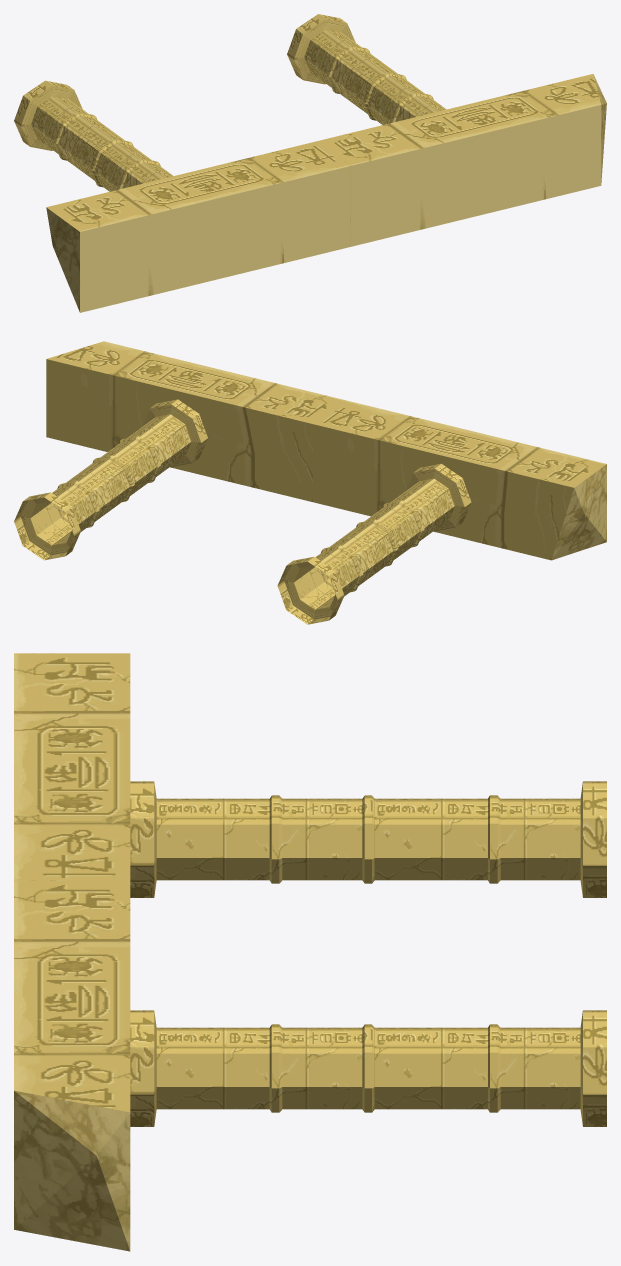
File: pillar_lightmapped.obj
3 views of the same model, one above another, from view 1: azimuth 30°, elevation 25°; view 2: azimuth 150°, elevation 25°; view 3: azimuth 270°, elevation 25° (orthographic). The views are drawn at different scales.
Parts seen in each view (by area): view 1: pillar; view 2: pillar; view 3: pillar.
Part boxes in pixels (left/top/right/bottom): pillar: left=14, top=14, right=606, bottom=312; pillar: left=14, top=341, right=606, bottom=624; pillar: left=14, top=653, right=606, bottom=1251.
Bounding box in the file's own units: 4537 × 635 × 2451.
1 material, 1 textured.
